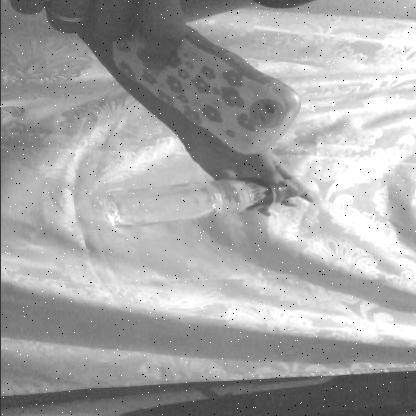Plastic Bottle: (73, 167, 345, 261)
